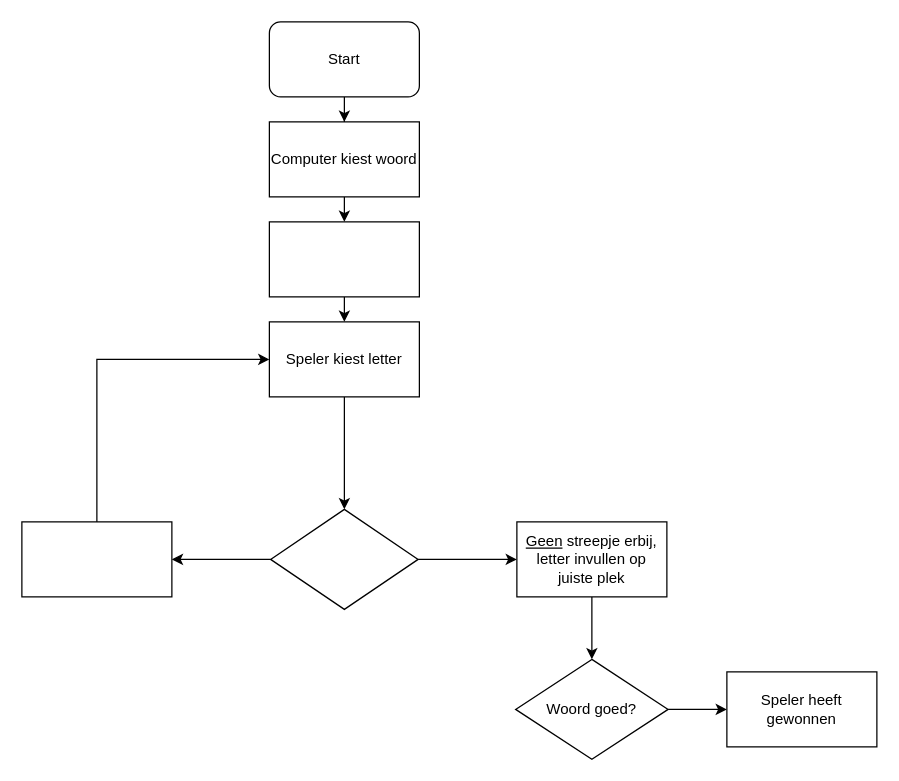
This 899x781 diagram has some shape labels left out. The shapes that lost their labels are listed below. From the top down, each one's centre as x and y in pixels, then its label:
[343,259]: Streepjes tekenen
[96,559]: Streepje erbij, letter in lijst van foute letters
[343,558]: Letter goed?
